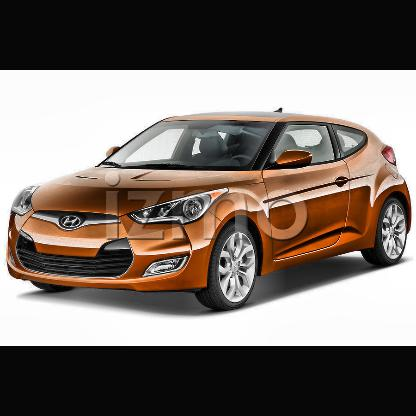Hyundai Veloster Hatchback 2012: (5, 106, 416, 310)
